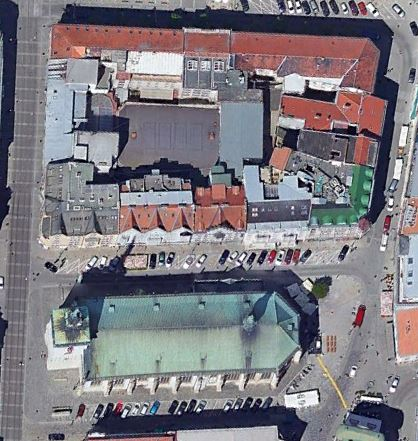block of flats: (35, 19, 386, 253)
church: (34, 280, 309, 395)
